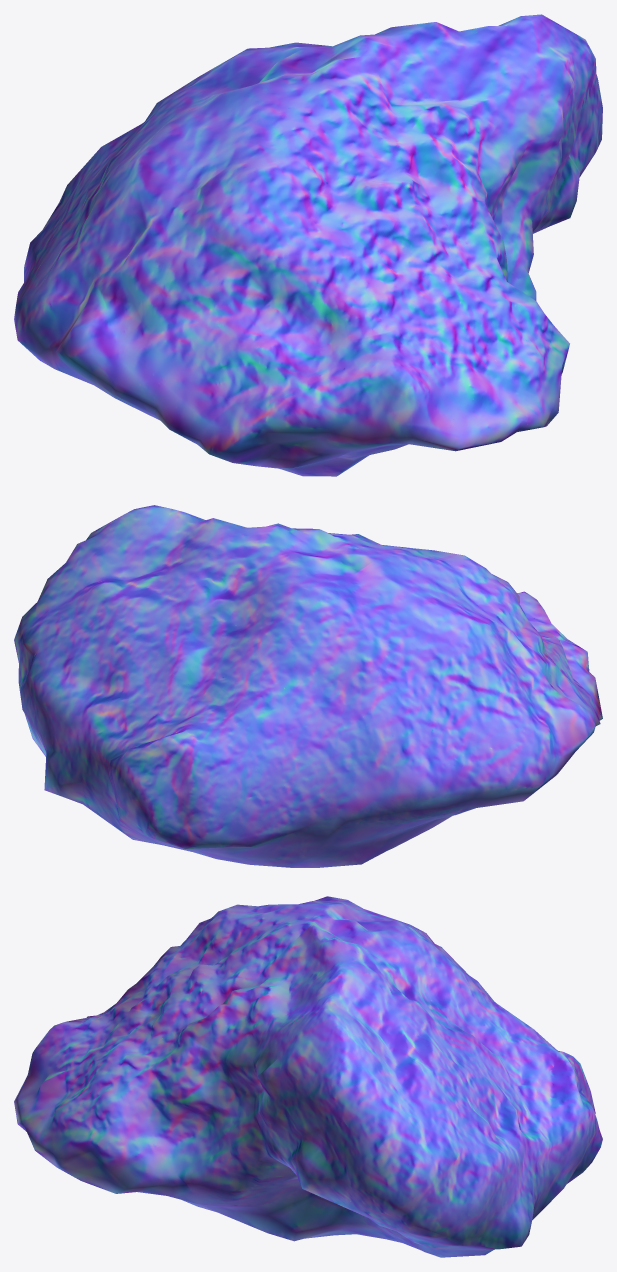
Rendered from Rock007.fbx.
3 views of the same model, one above another, from view 1: azimuth 30°, elevation 25°; view 2: azimuth 150°, elevation 25°; view 3: azimuth 270°, elevation 25° (orthographic). The views are drawn at different scales.
Parts seen in each view (by area): view 1: Rock07_LOD0; view 2: Rock07_LOD0; view 3: Rock07_LOD0.
Part boxes in pixels (x1,y1,x2,y2): Rock07_LOD0: [14, 14, 602, 476]; Rock07_LOD0: [14, 505, 602, 867]; Rock07_LOD0: [14, 896, 602, 1257].
Bounding box in the file's own units: 116 × 67.9 × 116.
